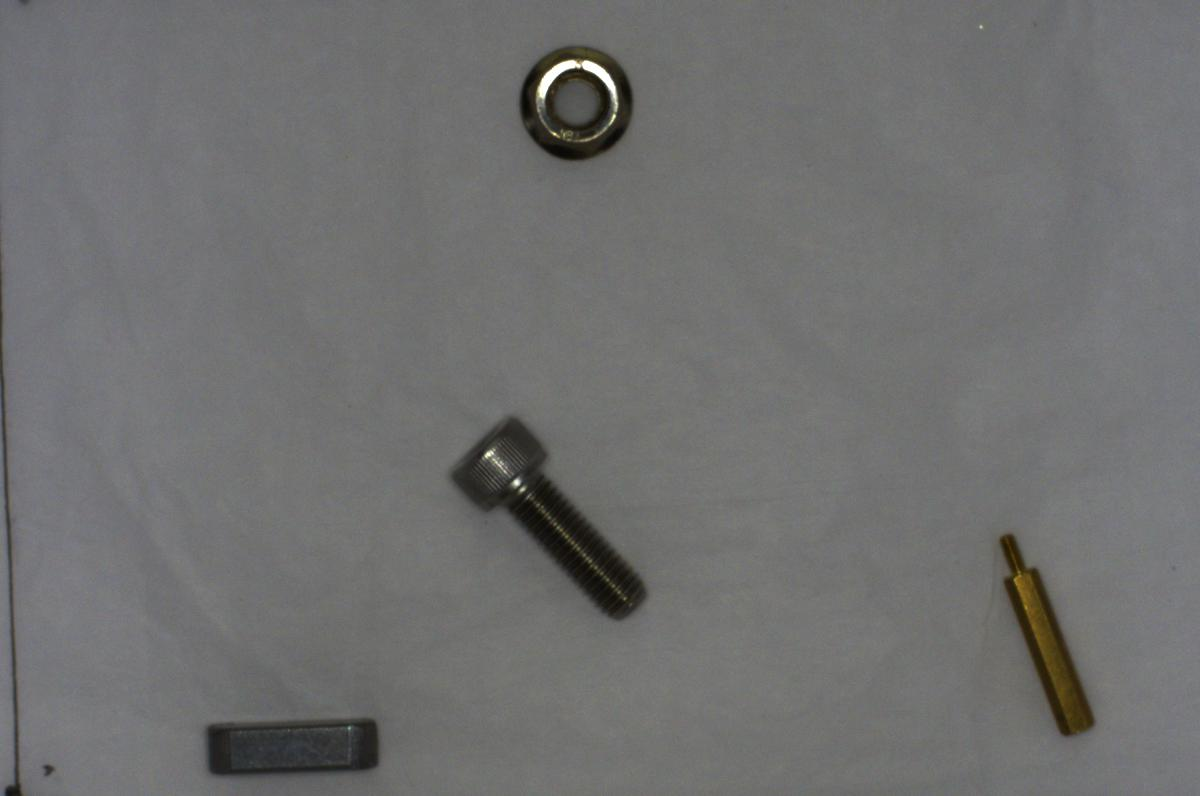Flange nut: (514, 32, 650, 169)
Hexagon pillar: (993, 523, 1104, 740)
Hexagon screw: (448, 416, 655, 626)
Keybar: (193, 709, 382, 781)
